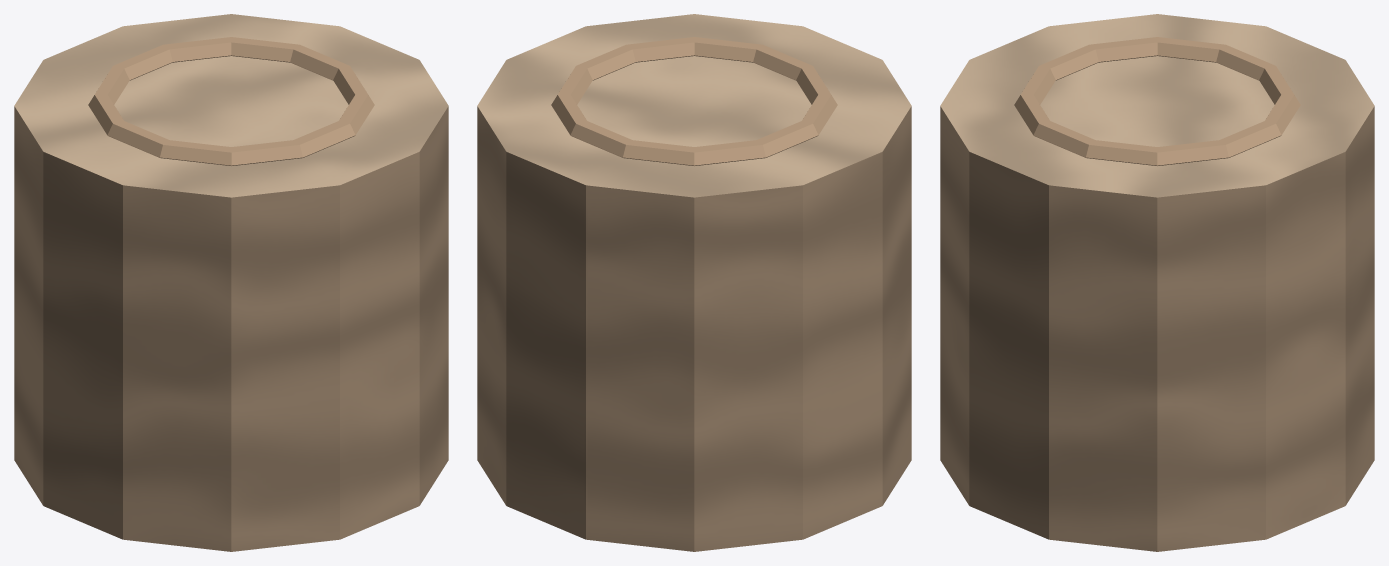
Rendered from stump.glb.
3 renders of one model, left to right at view 1: azimuth 30°, elevation 25°; view 2: azimuth 150°, elevation 25°; view 3: azimuth 270°, elevation 25°, orthographic.
Visible parts, largest first — view 1: Stump; view 2: Stump; view 3: Stump.
Boxes of the visible parts, x1,y1,x2,y2 form: Stump: (14,14,448,551); Stump: (477,14,911,551); Stump: (940,14,1374,551).
Size of the model in its own units: 0.5 by 0.464 by 0.5.
Materials: 3 (2 with a texture image).
